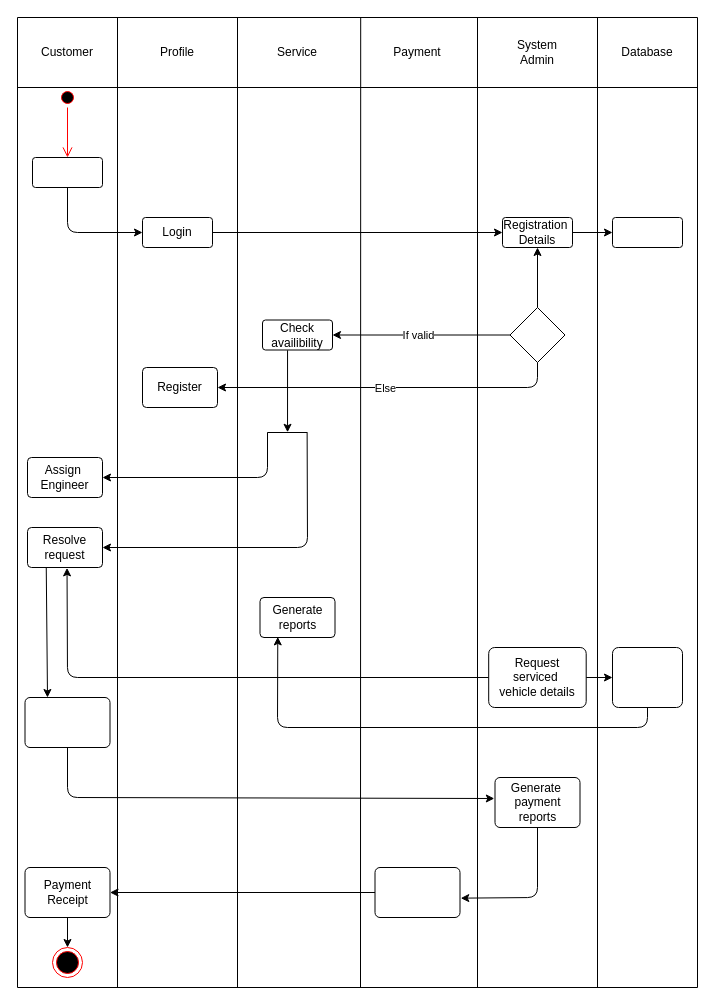
Some shapes in this 716 by 1006 pixel diagram are drawn without their labels. Each missing label, with the centre of its shape:
Begin payment: the point at 417,892
Registration: the point at 67,172
Request for payment: the point at 67,722
Serviced vehicle details: the point at 647,677
Store Details: the point at 647,232
